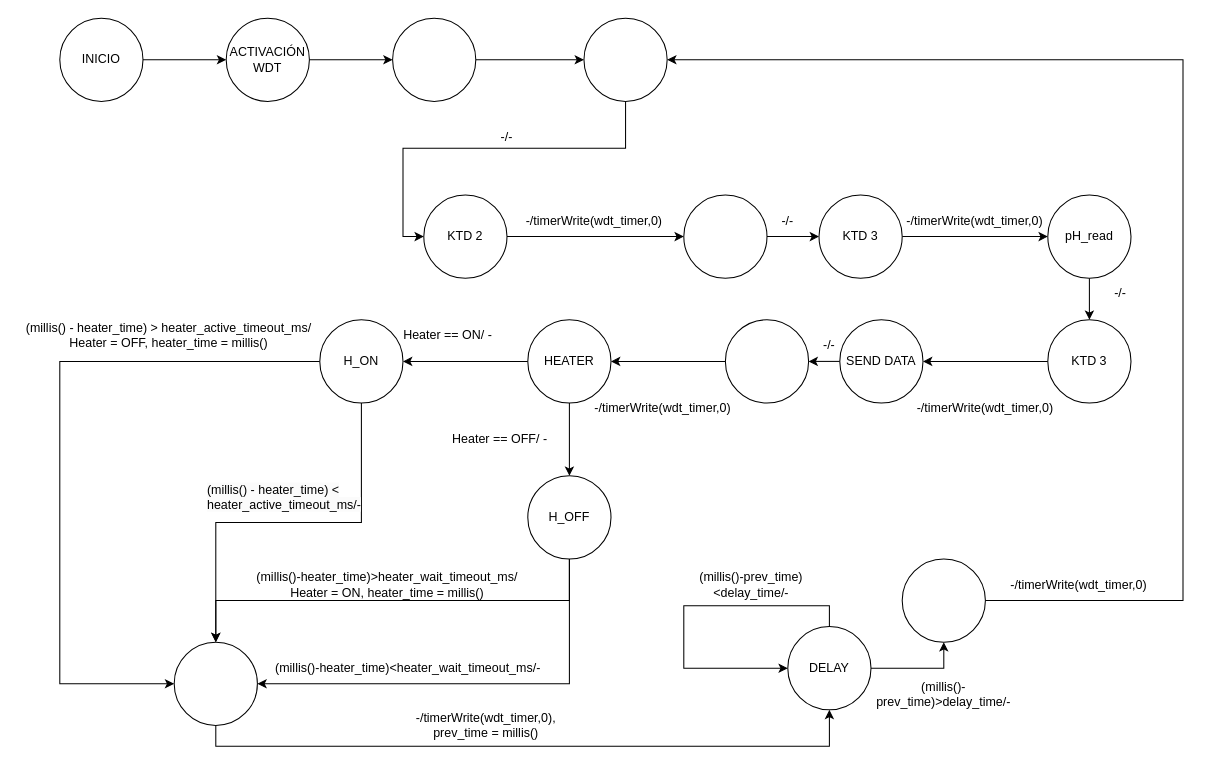
This 1210x773 diagram has some shape labels left out. The centre of each missing label's shape, as x and y in pixels:
"ACTIVACIÓN HEATER TIMER" belongs at point 434,59.
"KTD 4" belongs at point 766,361.
"KTD 5" belongs at point 215,683.
"KTD 6" belongs at point 943,600.
"LUX_read" belongs at point 725,236.
"SHT31_read" belongs at point 625,59.
